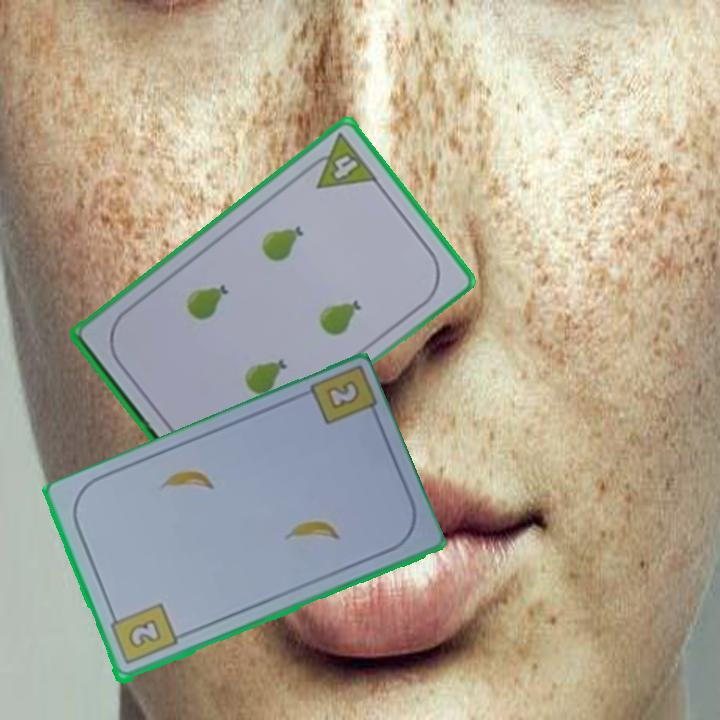2b: (106, 600, 180, 668), (326, 380, 360, 410)
4p: (300, 129, 380, 192)
